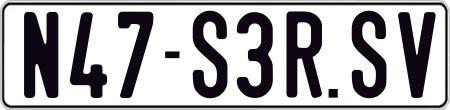3: (237, 9, 274, 97)
4: (68, 12, 109, 99)
7: (116, 11, 151, 100)
N: (21, 12, 59, 98)
R: (285, 8, 322, 101)
S: (349, 10, 387, 103), (191, 9, 225, 101)
V: (397, 11, 432, 97)
